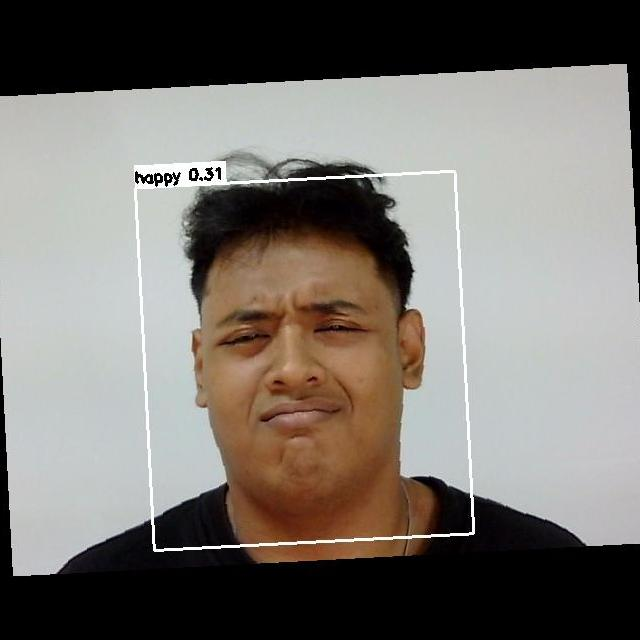Disgust: (192, 275, 416, 466)
